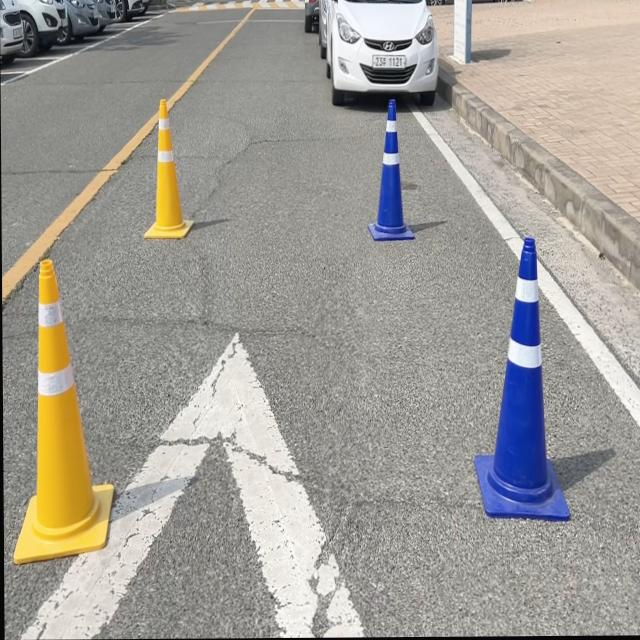b_rub: (475, 237, 570, 521), (368, 99, 414, 240)
y_rub: (12, 259, 112, 564), (143, 97, 193, 237)
